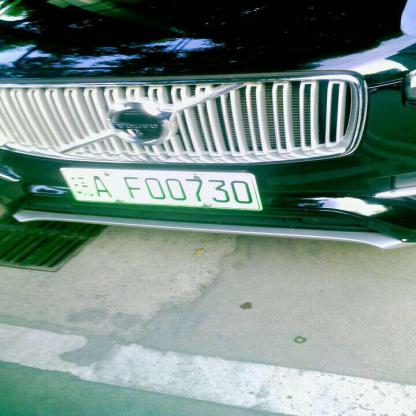lp: (58, 168, 263, 210)
